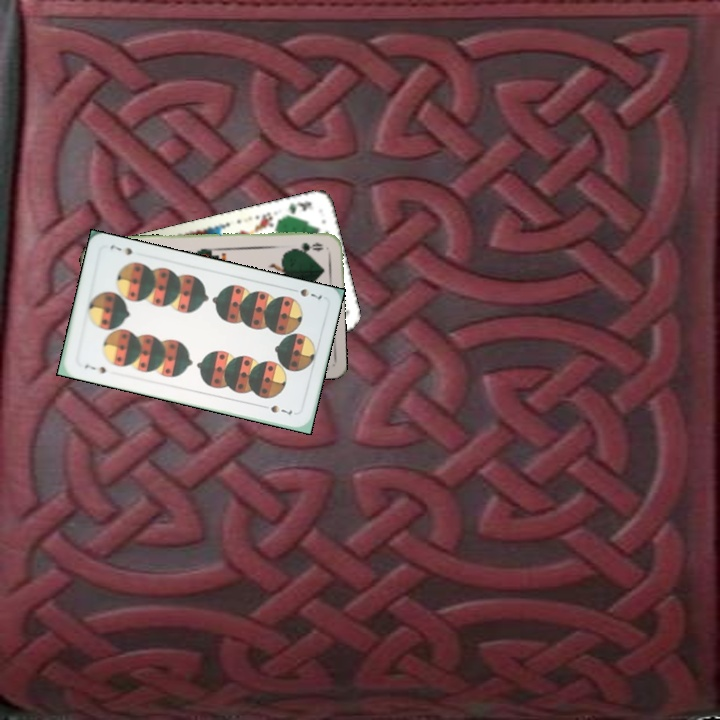GK: (278, 196, 314, 221)
GO: (287, 238, 326, 254)
S7: (286, 284, 324, 303), (80, 360, 108, 376)
